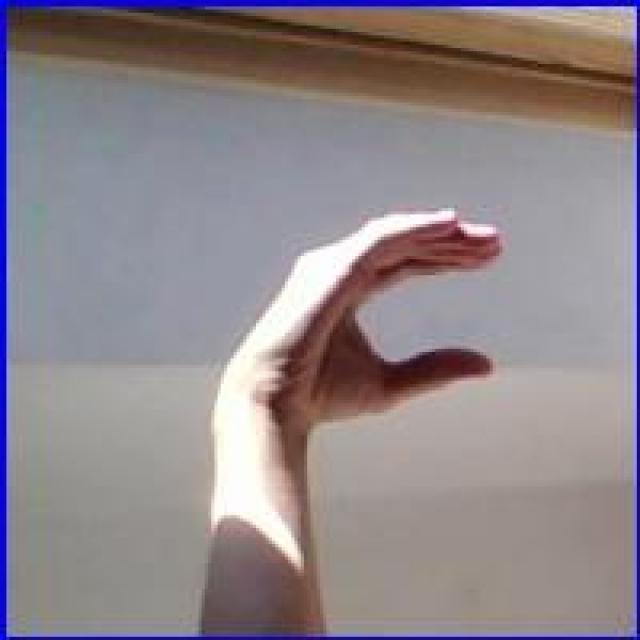C: (243, 195, 509, 426)
